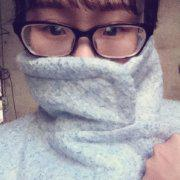OK: (23, 16, 143, 125)
